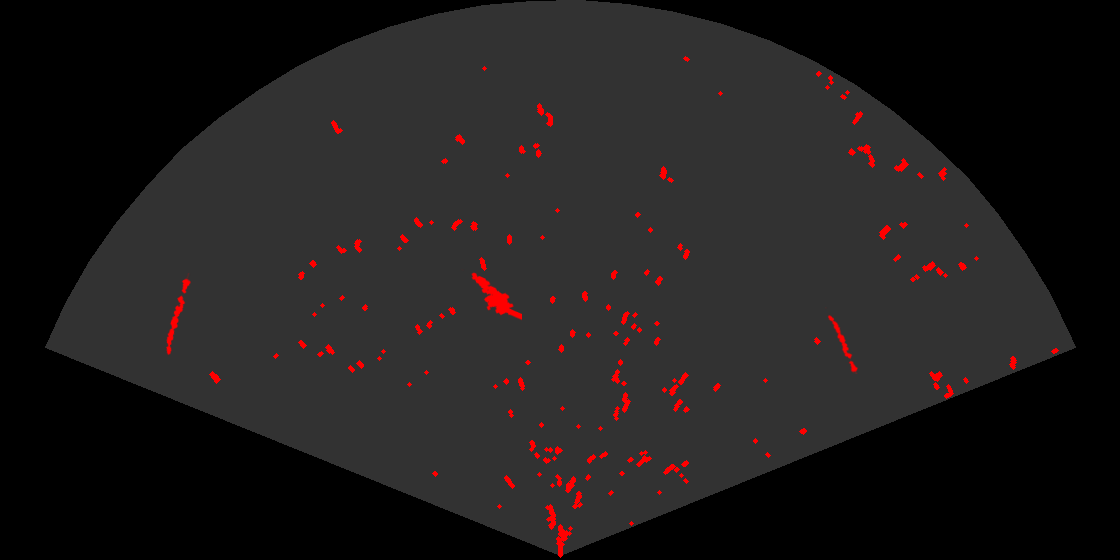chain: (824, 307, 859, 374), (165, 273, 192, 357)
frogman: (460, 269, 522, 322)
